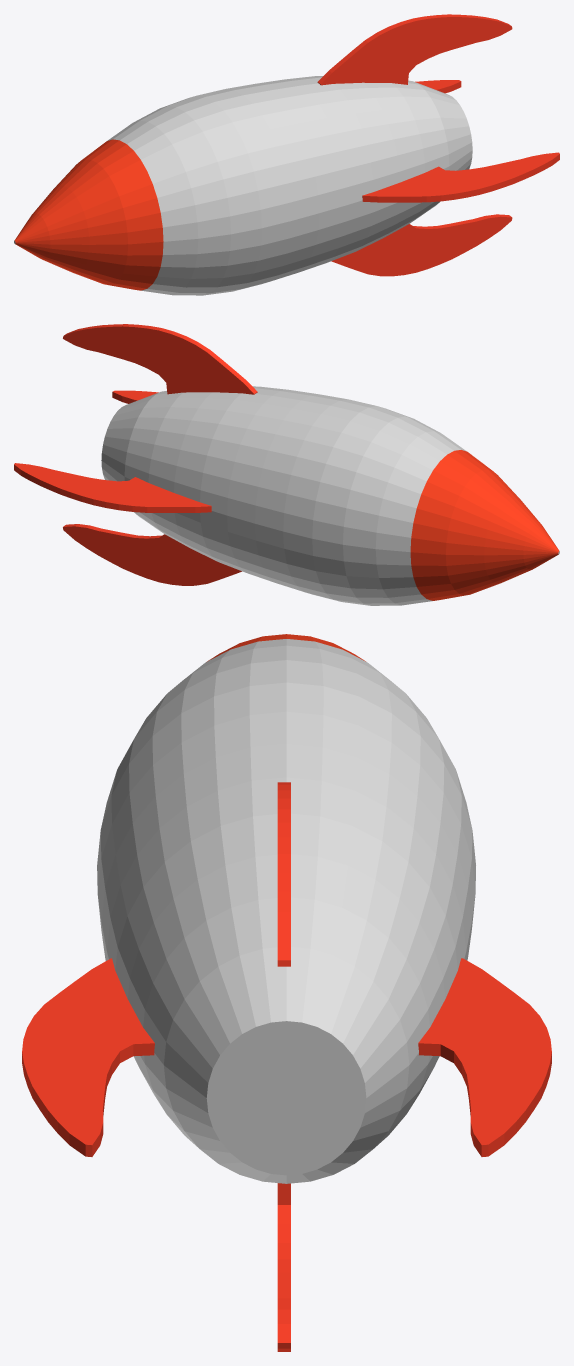
The model's file is Bullet.fbx.
3 views of the same model, one above another, from view 1: azimuth 30°, elevation 25°; view 2: azimuth 150°, elevation 25°; view 3: azimuth 270°, elevation 25° (orthographic). The views are drawn at different scales.
Visible parts, largest first — view 1: Cylinder.002; view 2: Cylinder.002; view 3: Cylinder.002.
Part boxes in pixels (box(x1,y1,x2,y2)): Cylinder.002: box(14, 14, 559, 295); Cylinder.002: box(14, 324, 559, 605); Cylinder.002: box(22, 634, 551, 1351).
Size of the model in its own units: 42.99 by 20.89 by 19.91.
